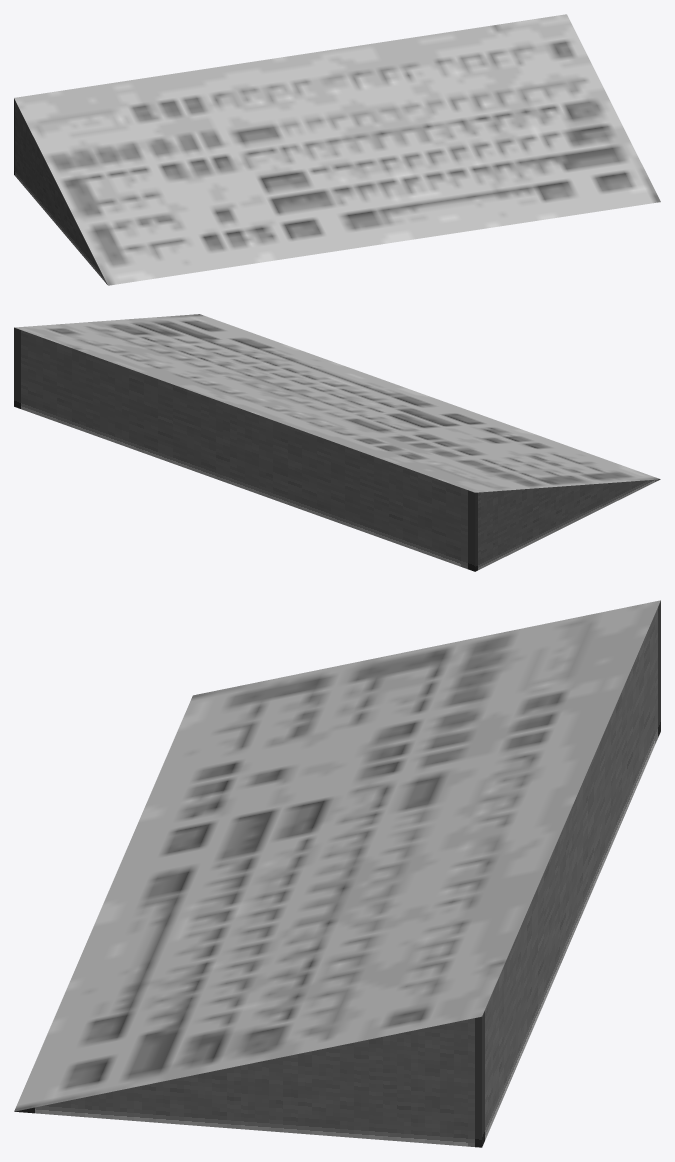
The model's file is primary_088.glb.
3 views of the same model, one above another, from view 1: azimuth 30°, elevation 25°; view 2: azimuth 150°, elevation 25°; view 3: azimuth 270°, elevation 25° (orthographic). The views are drawn at different scales.
Parts seen in each view (by area): view 1: Object; view 2: Object; view 3: Object.
Part boxes in pixels (x1,y1,x2,y2): Object: [14, 14, 660, 285]; Object: [14, 314, 660, 571]; Object: [14, 600, 660, 1147].
Size of the model in its own units: 0.8389 by 0.1134 by 0.5072.
Materials: 4 (4 with a texture image).
